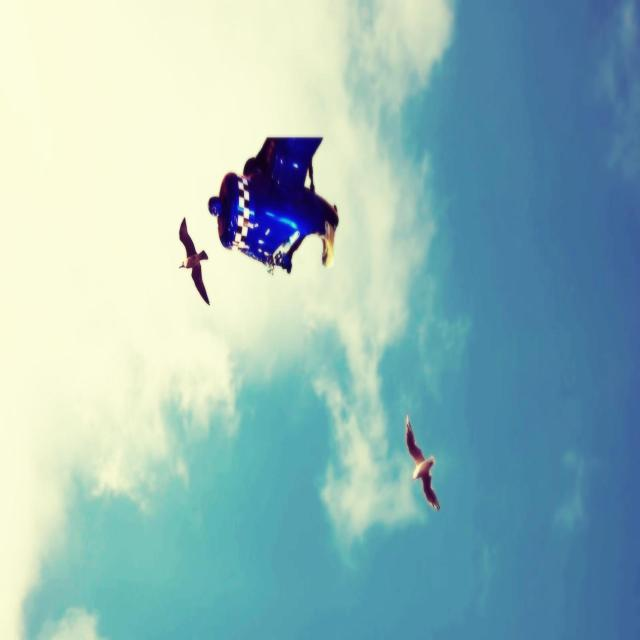airplane: (207, 136, 340, 278)
